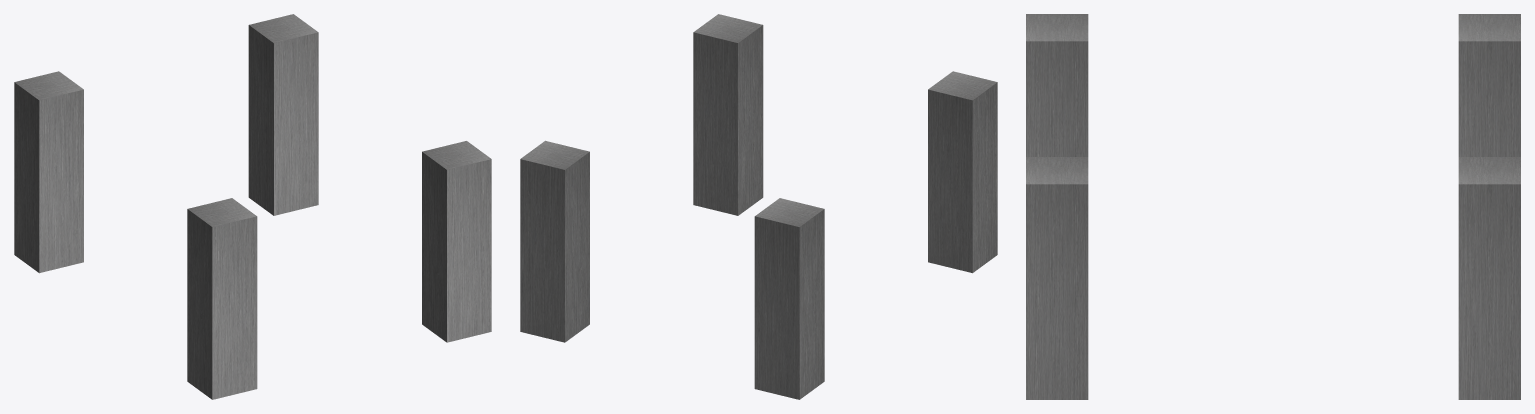
The model's file is bevelPatasMetal.glb.
The picture shows the model from 3 angles, left to right: view 1: azimuth 30°, elevation 25°; view 2: azimuth 150°, elevation 25°; view 3: azimuth 270°, elevation 25°; orthographic projection. The views are drawn at different scales.
Visible parts, largest first — view 1: Cube.004, Cube.007, Cube.006, Cube.005; view 2: Cube.005, Cube.006, Cube.004, Cube.007; view 3: Cube.005, Cube.007, Cube.004, Cube.006.
Boxes of the visible parts, bbox=[...] form: Cube.004: bbox=[187, 198, 257, 399]; Cube.007: bbox=[248, 14, 318, 215]; Cube.006: bbox=[14, 71, 83, 273]; Cube.005: bbox=[422, 141, 491, 342]; Cube.005: bbox=[693, 14, 763, 215]; Cube.006: bbox=[754, 198, 824, 399]; Cube.004: bbox=[928, 71, 997, 273]; Cube.007: bbox=[520, 140, 589, 342]; Cube.005: bbox=[1026, 157, 1088, 399]; Cube.007: bbox=[1458, 157, 1520, 399]; Cube.004: bbox=[1026, 14, 1088, 156]; Cube.006: bbox=[1458, 14, 1520, 156].
Bounding box in the file's own units: 1.8 × 1.06 × 2.21.
Materials: 4 (4 with a texture image).
